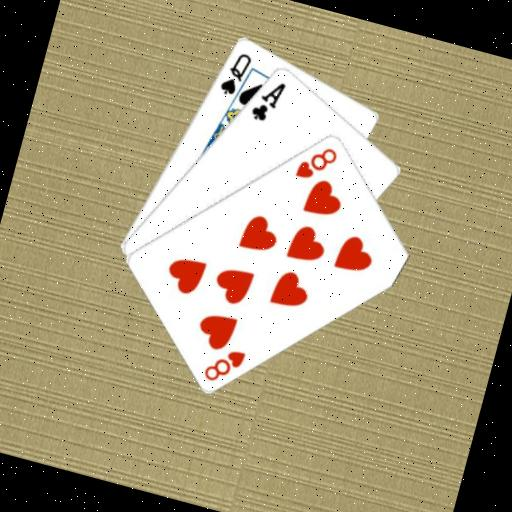8H: (290, 136, 340, 186), (198, 339, 248, 389)
AC: (246, 72, 289, 126)
QS: (215, 46, 254, 100)
